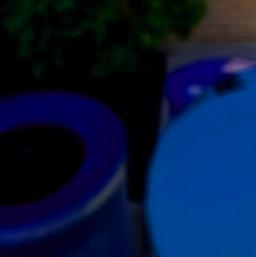algae: (148, 65, 256, 257)
